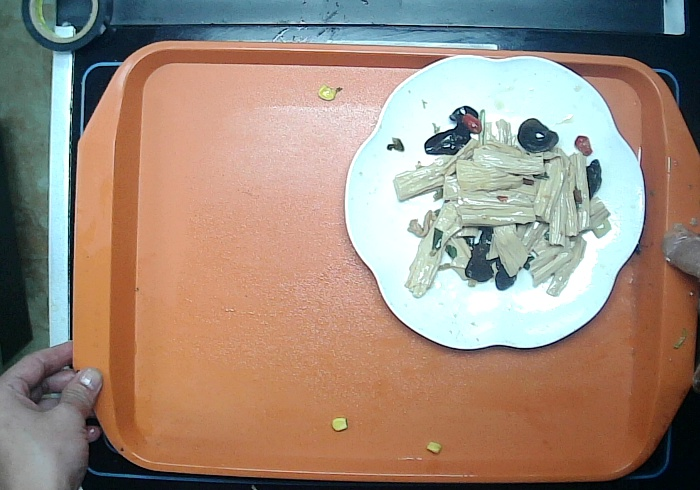HZYJPL-Bai_Se_Hua_Duo_Wan: (333, 46, 652, 358)
